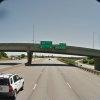Bridge: (6, 26, 93, 66)
